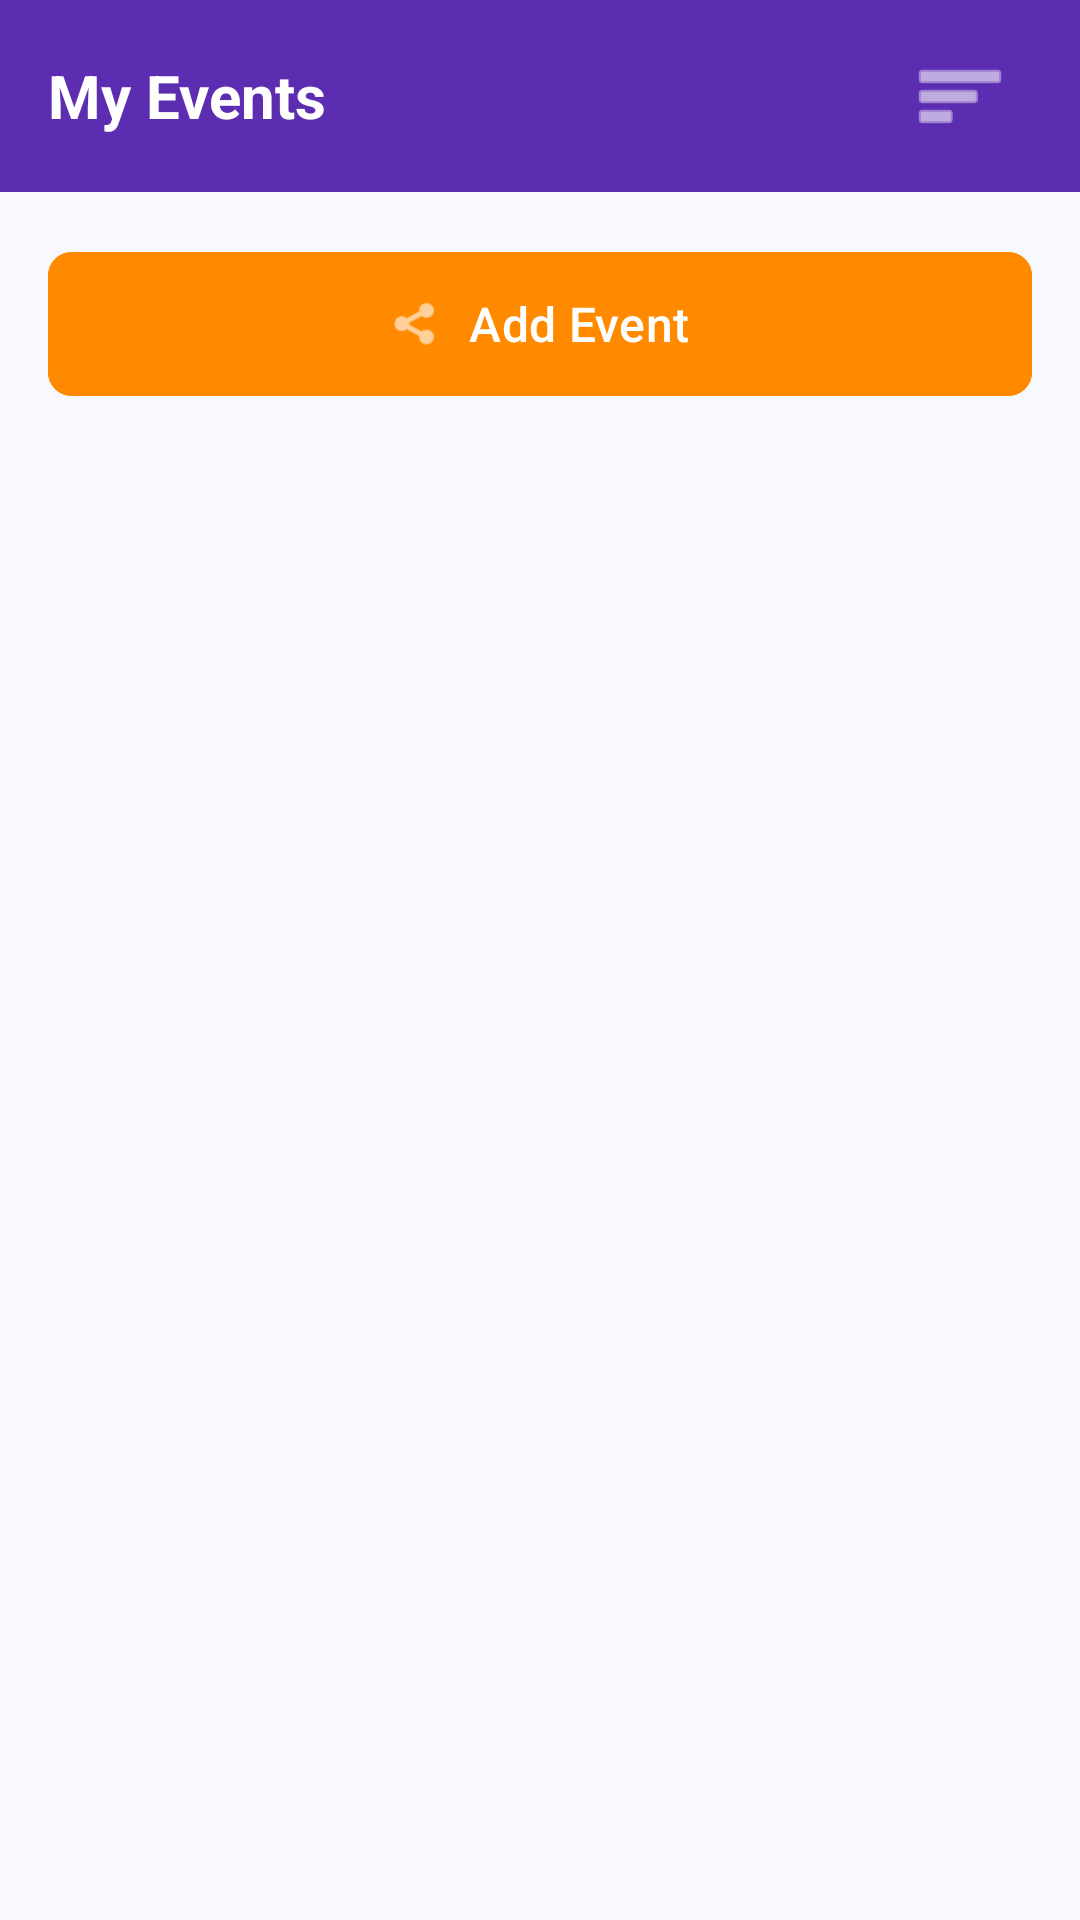

Where icons sit on this 1080x1920 app screen, as (x1, y1, x2, y2):
Menu: (919, 70, 1001, 123)
